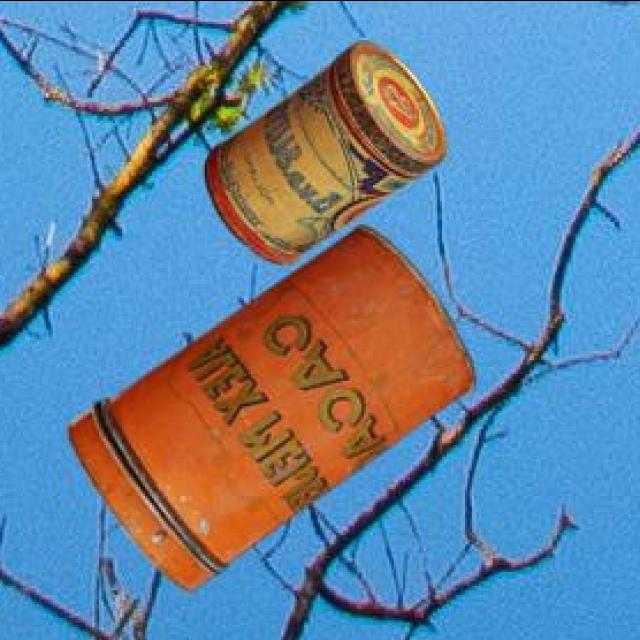logam: (66, 222, 471, 588), (201, 38, 443, 259)
